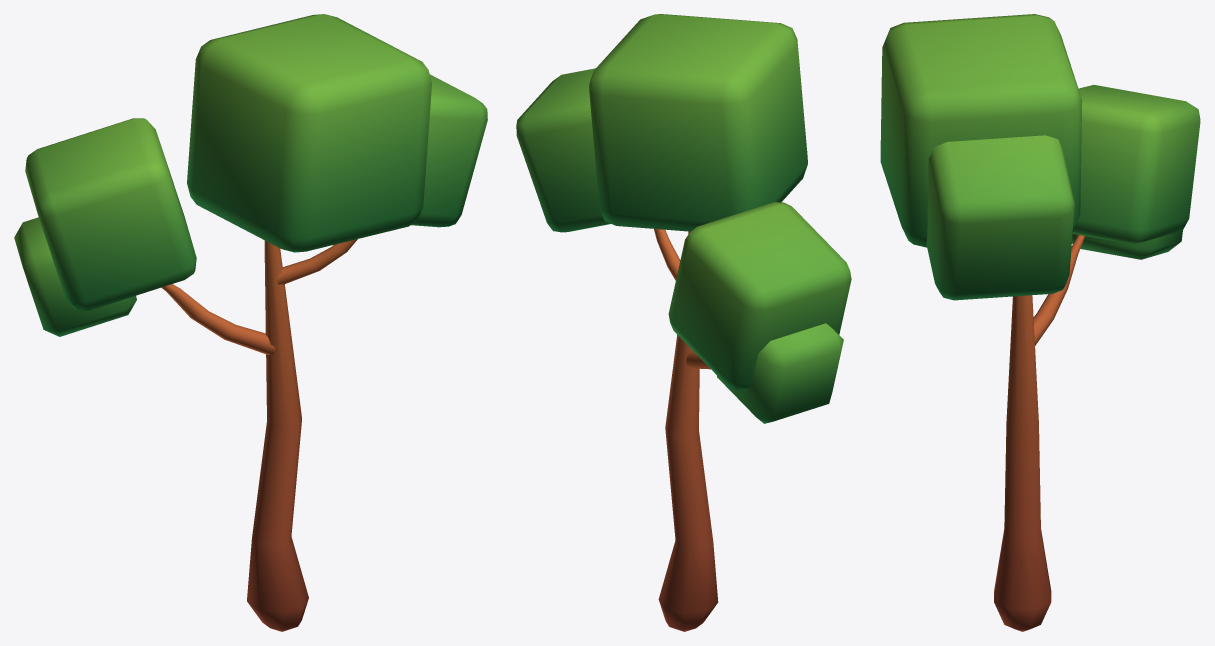
Rendered from Tree_2_C_Color1.glb.
The picture shows the model from 3 angles, left to right: view 1: azimuth 30°, elevation 25°; view 2: azimuth 150°, elevation 25°; view 3: azimuth 270°, elevation 25°; orthographic projection. The views are drawn at different scales.
Visible parts, largest first — view 1: Tree_2_C_Color1; view 2: Tree_2_C_Color1; view 3: Tree_2_C_Color1.
Boxes of the visible parts, x1=… form: Tree_2_C_Color1: x1=14, y1=14, x2=487, y2=631; Tree_2_C_Color1: x1=516, y1=14, x2=851, y2=631; Tree_2_C_Color1: x1=880, y1=14, x2=1200, y2=631.
Size of the model in its own units: 4.6 by 6.92 by 3.4.
1 material, 1 textured.
